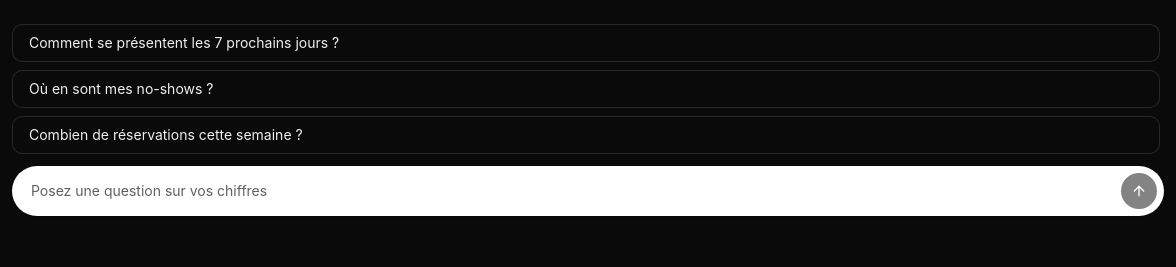
Test case: CompanionPanel › pouce bas : envoie l’avis avec le responseId, puis verrouille les boutons
The width and height of the screenshot is (1176, 267).
Step 1. Click the button "Comment se présentent les 7 prochains jours ?" → click(184, 42), box left=12, top=24, right=1160, bottom=62
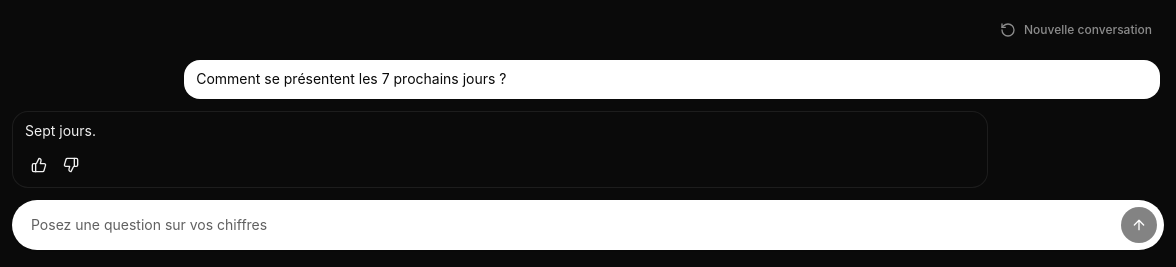
Now the text "Sept jours." is shown, box left=25, top=122, right=96, bottom=139
Step 2. Click the button named "Réponse peu utile" → click(71, 164), box left=57, top=150, right=85, bottom=178
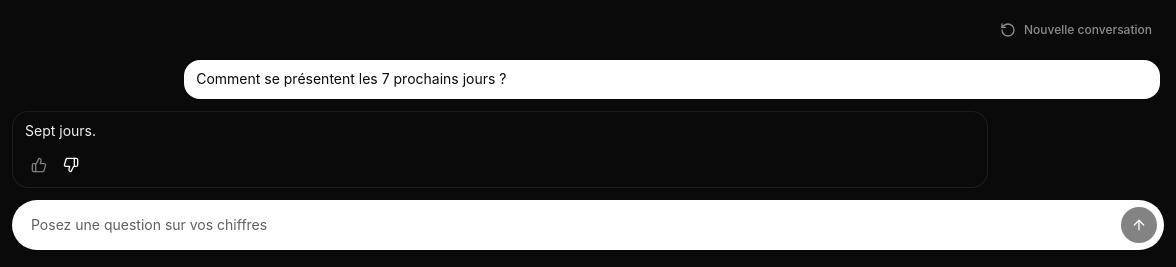
Now the button named "Réponse utile" is disabled, box left=25, top=150, right=53, bottom=178
